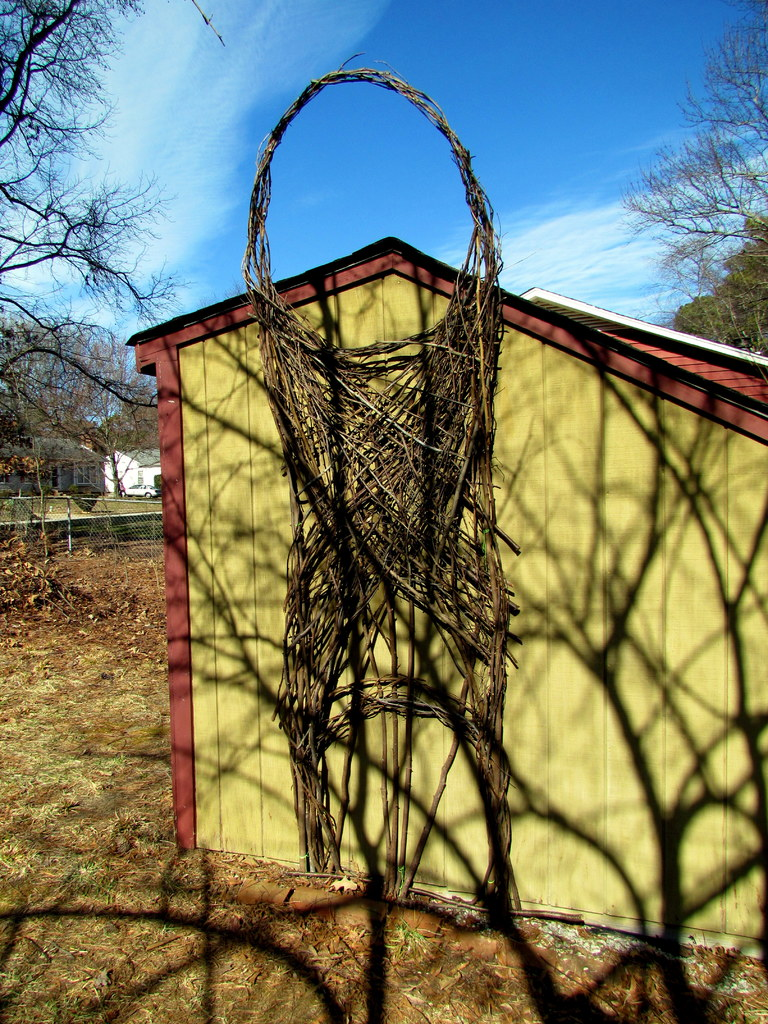Tree: (0, 0, 224, 498), (614, 0, 767, 353)
